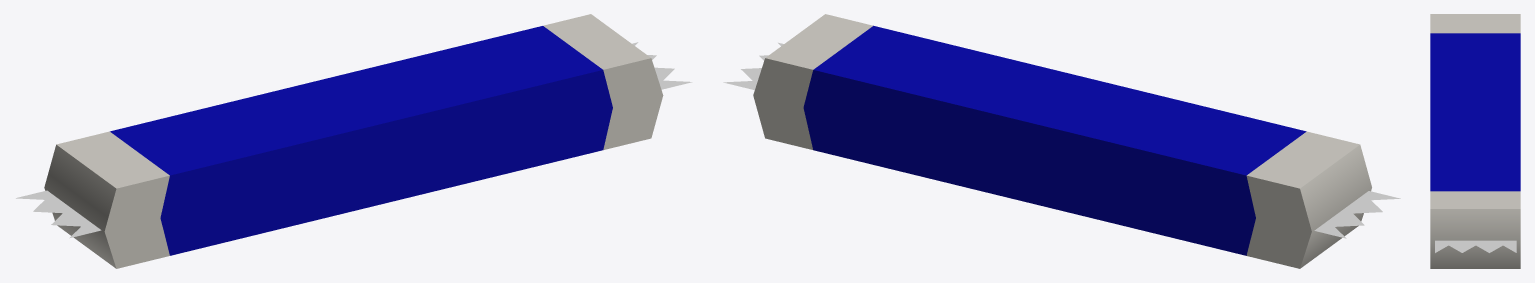
Rendered from SM_Single_Biscuits_Blue.fbx.
3 renders of one model, left to right at view 1: azimuth 30°, elevation 25°; view 2: azimuth 150°, elevation 25°; view 3: azimuth 270°, elevation 25°, orthographic. The views are drawn at different scales.
Parts seen in each view (by area): view 1: pPlane7; view 2: pPlane7; view 3: pPlane7.
Part boxes in pixels (bbox=[...]): pPlane7: bbox=[16, 14, 692, 268]; pPlane7: bbox=[723, 14, 1400, 268]; pPlane7: bbox=[1430, 14, 1520, 268].
Bounding box in the file's own units: 0.5139 × 0.0632 × 0.0859.
